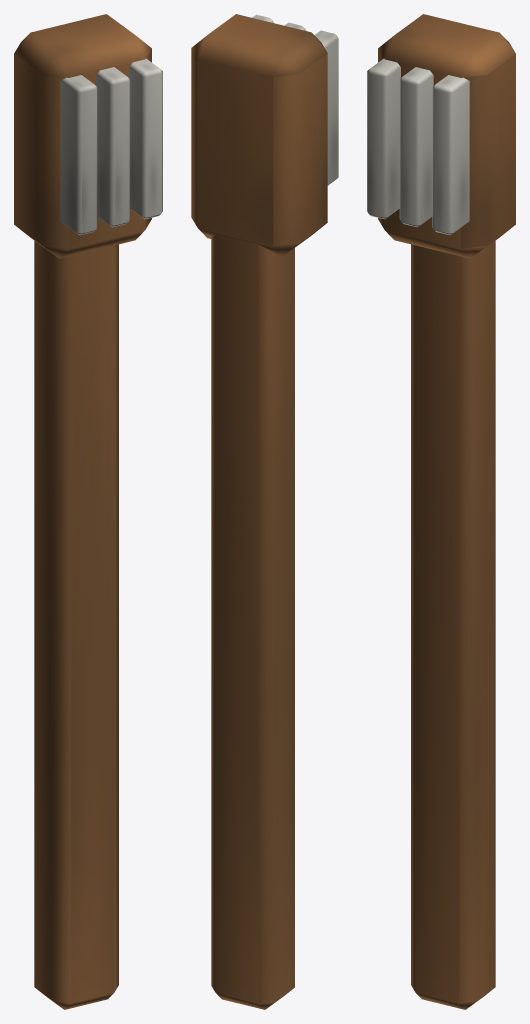
File: Hold_Toothbrush.fbx
3 views of the same model, side by side, from view 1: azimuth 30°, elevation 25°; view 2: azimuth 150°, elevation 25°; view 3: azimuth 330°, elevation 25° (orthographic).
Parts seen in each view (by area): view 1: Hold_Toothbrush; view 2: Hold_Toothbrush; view 3: Hold_Toothbrush.
Boxes of the visible parts, <box> form: Hold_Toothbrush: <box>14,14,162,1009</box>; Hold_Toothbrush: <box>191,14,338,1009</box>; Hold_Toothbrush: <box>367,14,515,1009</box>.
Size of the model in its own units: 0.02 by 0.17 by 0.02.
1 material, 1 textured.
